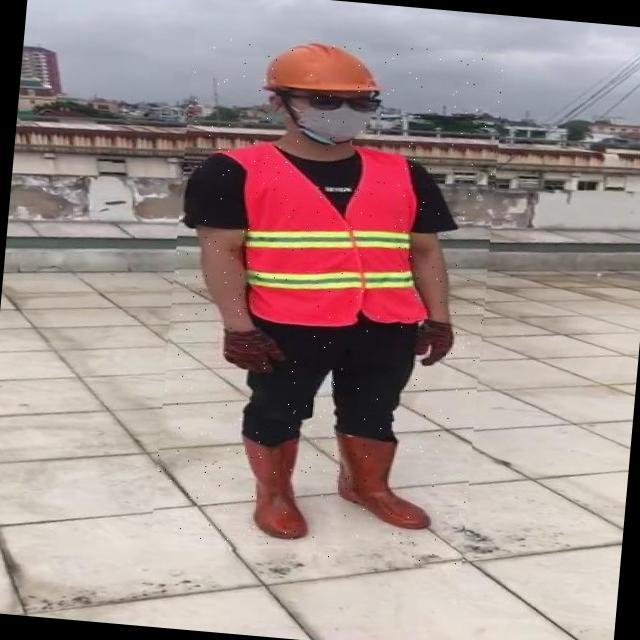Gloves: (217, 330, 286, 379), (414, 322, 457, 371)
Helmet: (252, 38, 382, 105)
Human: (151, 28, 507, 571)
Safety Boot: (325, 432, 440, 535), (233, 435, 318, 543)
Safety Vest: (233, 145, 436, 336)
